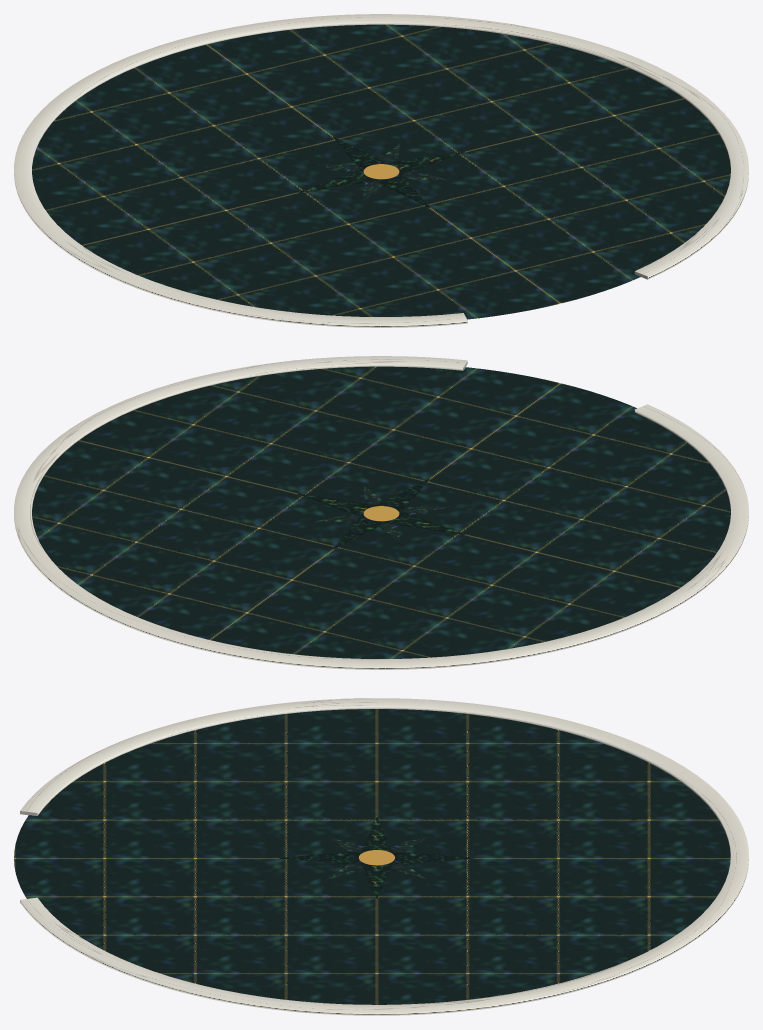
Rendered from portal-plaza-no-walkway.opt.glb.
3 renders of one model, top to bottom at view 1: azimuth 30°, elevation 25°; view 2: azimuth 150°, elevation 25°; view 3: azimuth 270°, elevation 25°, orthographic.
Visible parts, largest first — view 1: portal-plaza_InlayFloor, portal-plaza_MeshPhysicalMaterial, portal-plaza_LabradoriteDark, portal-plaza_Labradorite; view 2: portal-plaza_InlayFloor, portal-plaza_MeshPhysicalMaterial, portal-plaza_LabradoriteDark, portal-plaza_Labradorite; view 3: portal-plaza_InlayFloor, portal-plaza_MeshPhysicalMaterial, portal-plaza_LabradoriteDark, portal-plaza_Labradorite.
Boxes of the visible parts, x1,y1,x2,y2 form: portal-plaza_InlayFloor: (32,24,730,319); portal-plaza_MeshPhysicalMaterial: (14,14,748,327); portal-plaza_LabradoriteDark: (297,136,465,207); portal-plaza_Labradorite: (312,143,450,201); portal-plaza_InlayFloor: (32,366,730,658); portal-plaza_MeshPhysicalMaterial: (14,356,748,669); portal-plaza_LabradoriteDark: (297,478,465,549); portal-plaza_Labradorite: (312,485,450,543); portal-plaza_InlayFloor: (14,709,730,1004); portal-plaza_MeshPhysicalMaterial: (20,698,748,1015); portal-plaza_LabradoriteDark: (279,817,474,899); portal-plaza_Labradorite: (325,836,428,879).
Size of the model in its own units: 20.49 by 0.1001 by 20.25.
Materials: 5 (4 with a texture image).
